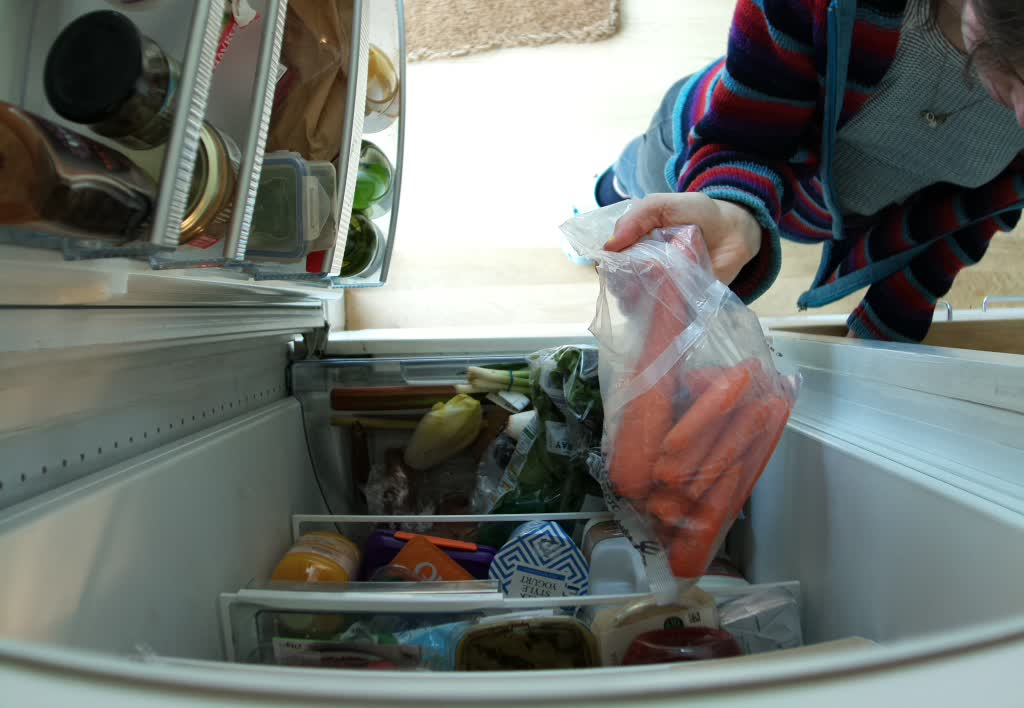carrot: (608, 259, 791, 580)
